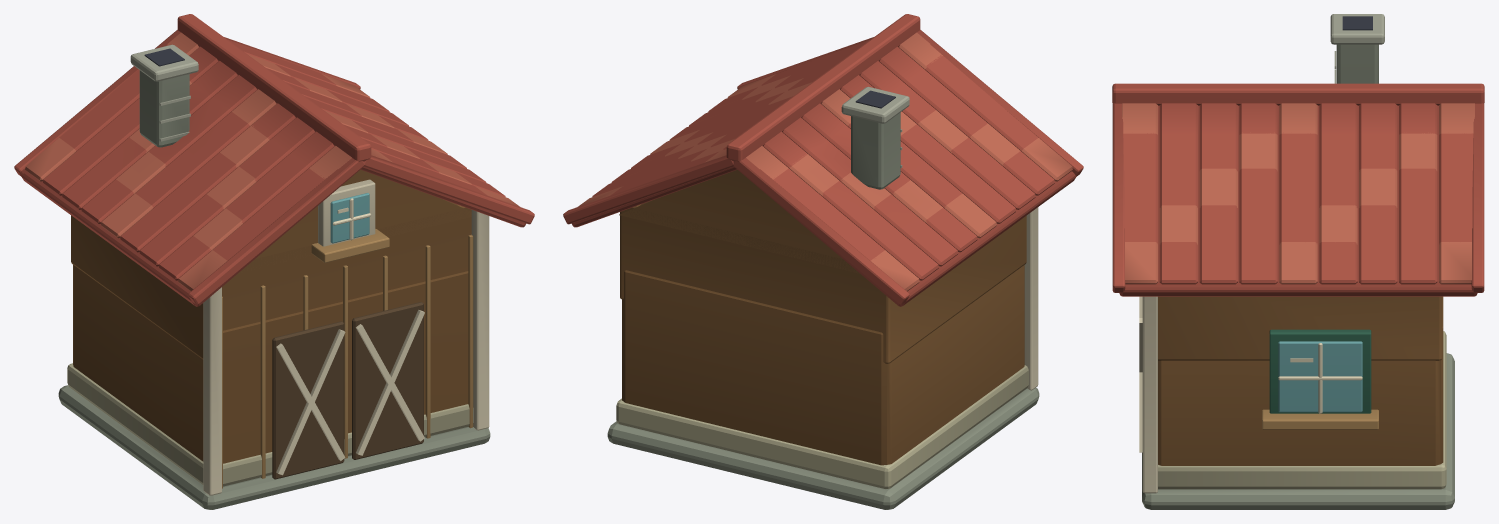
The model's file is house_barn.glb.
The picture shows the model from 3 angles, left to right: view 1: azimuth 30°, elevation 25°; view 2: azimuth 150°, elevation 25°; view 3: azimuth 270°, elevation 25°; orthographic projection. The views are drawn at different scales.
Parts seen in each view (by area): view 1: house_barn; view 2: house_barn; view 3: house_barn.
Boxes of the visible parts, x1=… form: house_barn: x1=14, y1=14, x2=534, y2=509; house_barn: x1=563, y1=14, x2=1083, y2=509; house_barn: x1=1112, y1=14, x2=1484, y2=509.
Size of the model in its own units: 2.41 by 2.46 by 2.2.
